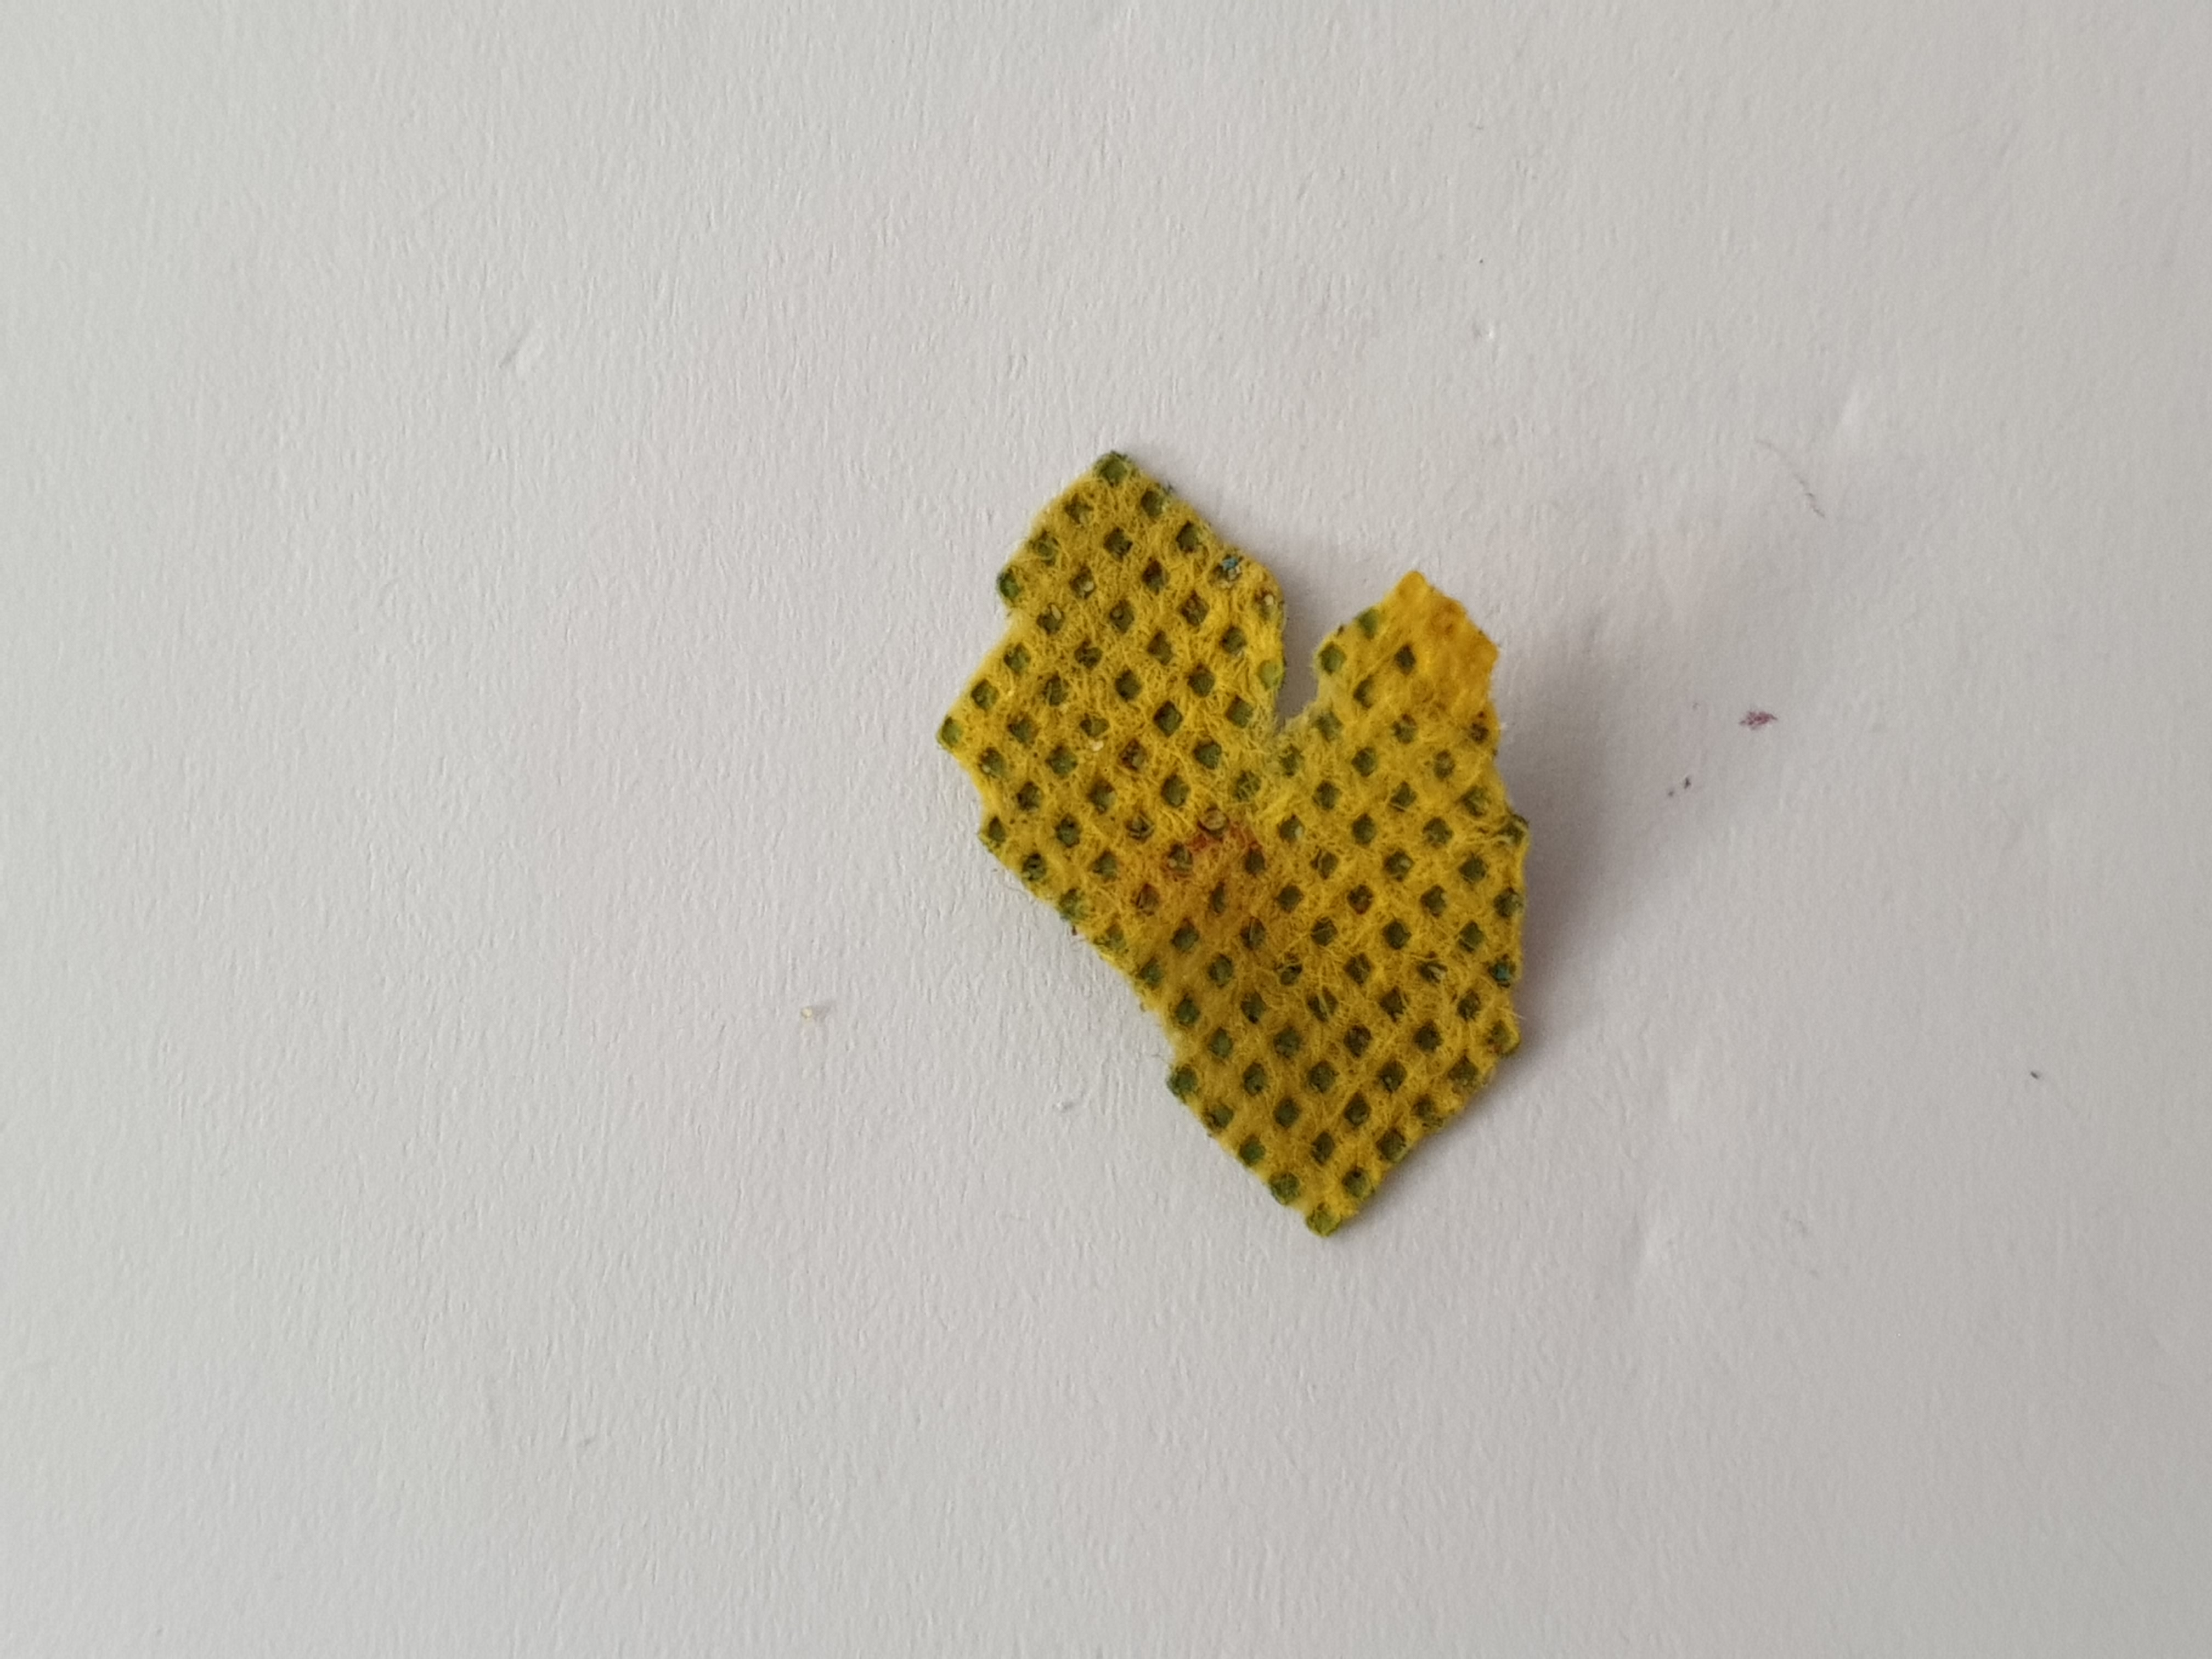plastic: (918, 436, 1622, 1258)
